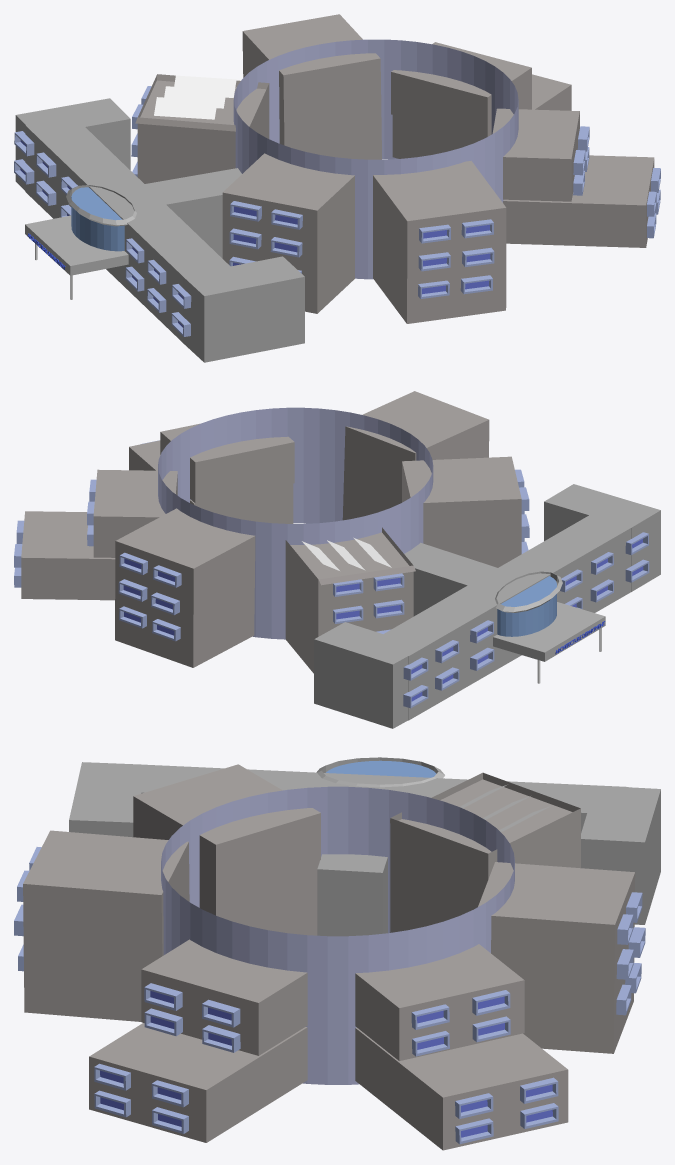
Rendered from architecture.glb.
The picture shows the model from 3 angles, top to bottom: view 1: azimuth 30°, elevation 25°; view 2: azimuth 150°, elevation 25°; view 3: azimuth 270°, elevation 25°; orthographic projection. The views are drawn at different scales.
Parts seen in each view (by area): view 1: Cube.039, Cube.021, Cylinder, Cube.017, Cube.015, Cube.001, Cube.016, Cube, Cube.047, Cylinder.001, Plane.003, Plane.002 (+6 smaller); view 2: Cube.039, Cylinder, Cube.015, Cube.016, Cube.001, Cube.021, Cube, Cube.017, Cube.047, Cylinder.001, Torus; view 3: Cylinder, Cube.016, Cube.021, Cube.017, Cube.015, Cube.039, Cube.001, Cube, Cylinder.001, Torus, Cube.019, Cube.020 (+14 smaller).
Boxes of the visible parts, x1,y1,x2,y2 form: Cube.039: (15, 98, 304, 362); Cube.021: (373, 160, 506, 323); Cylinder: (233, 39, 518, 279); Cube.017: (492, 108, 654, 247); Cube.015: (242, 14, 381, 159); Cube.001: (222, 153, 354, 313); Cube.016: (391, 42, 571, 158); Cube: (135, 74, 269, 183); Cube.047: (25, 215, 128, 275); Cylinder.001: (71, 187, 124, 251); Plane.003: (154, 97, 217, 119); Plane.002: (164, 86, 226, 108); Cube.039: (314, 484, 660, 728); Cylinder: (158, 407, 433, 639); Cube.015: (115, 508, 255, 667); Cube.016: (21, 469, 177, 600); Cube.001: (402, 456, 521, 567); Cube.021: (342, 391, 489, 520); Cube: (285, 527, 415, 673); Cube.017: (129, 423, 294, 523); Cube.047: (493, 602, 605, 661); Cylinder.001: (497, 576, 556, 636); Torus: (495, 571, 562, 612); Cylinder: (161, 786, 514, 1084); Cube.016: (355, 944, 568, 1150); Cube.021: (14, 830, 189, 1021); Cube.017: (89, 939, 307, 1142); Cube.015: (478, 862, 645, 1053); Cube.039: (69, 762, 660, 936); Cube.001: (133, 764, 320, 935); Cube: (390, 772, 580, 932); Cylinder.001: (326, 760, 436, 777); Torus: (316, 757, 444, 787); Cube.019: (202, 999, 240, 1027); Cube.020: (144, 1008, 182, 1036).
Size of the model in its own units: 56.19 by 11.7 by 45.68.
